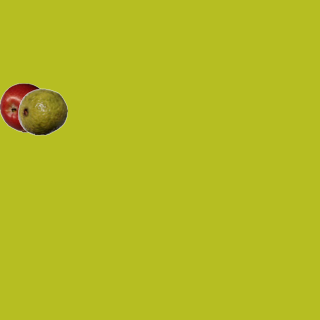Apple Braeburn: (0, 82, 49, 132)
Guava: (17, 86, 67, 136)
